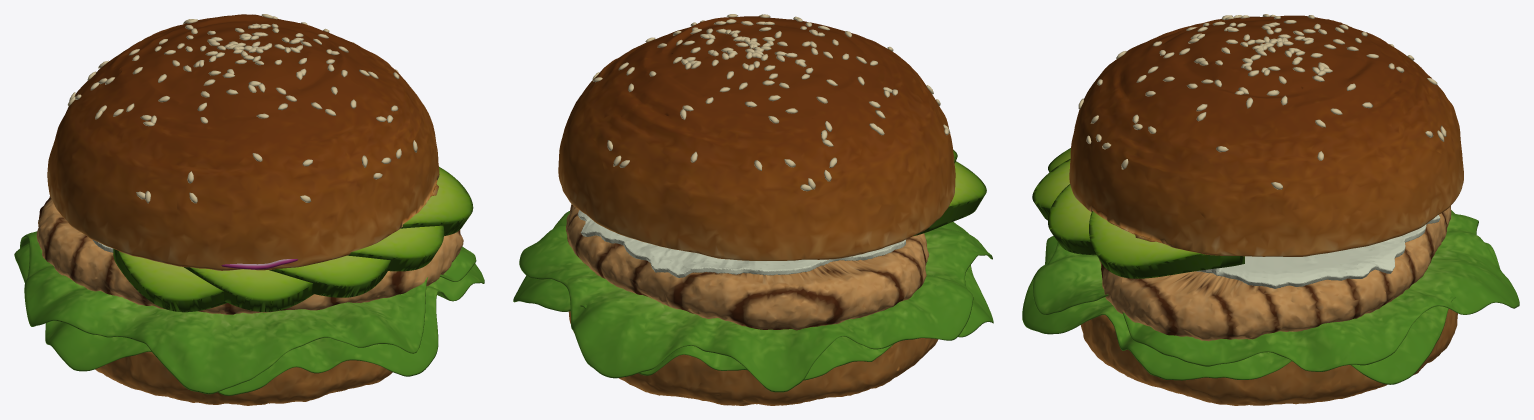
Rendered from chicken-avocat.glb.
3 renders of one model, left to right at view 1: azimuth 30°, elevation 25°; view 2: azimuth 150°, elevation 25°; view 3: azimuth 270°, elevation 25°, orthographic.
Visible parts, largest first — view 1: pain_haut, salade1, salade0, poulet_grille, pain_bas, sesame, avocat0, avocat1, avocat2, avocat3, avocat4; view 2: pain_haut, salade1, poulet_grille, pain_bas, sesame, salade0, sauce, avocat0; view 3: pain_haut, salade1, poulet_grille, salade0, pain_bas, sauce, sesame, avocat4, avocat3, avocat2.
Boxes of the visible parts, left/top/right/bottom form: pain_haut: left=47, top=14, right=439, bottom=270; salade1: left=20, top=231, right=476, bottom=394; salade0: left=14, top=243, right=484, bottom=395; poulet_grille: left=36, top=196, right=463, bottom=314; pain_bas: left=95, top=351, right=392, bottom=405; sesame: left=67, top=14, right=417, bottom=203; avocat0: left=113, top=248, right=227, bottom=312; avocat1: left=184, top=267, right=313, bottom=311; avocat2: left=269, top=255, right=390, bottom=297; avocat3: left=347, top=225, right=444, bottom=271; avocat4: left=400, top=167, right=473, bottom=235; pain_haut: left=558, top=16, right=955, bottom=260; salade1: left=519, top=211, right=992, bottom=392; poulet_grille: left=566, top=204, right=928, bottom=330; pain_bas: left=568, top=311, right=938, bottom=405; sesame: left=592, top=14, right=950, bottom=191; salade0: left=513, top=265, right=993, bottom=380; sauce: left=577, top=210, right=905, bottom=277; avocat0: left=913, top=161, right=986, bottom=236; pain_haut: left=1069, top=15, right=1463, bottom=256; salade1: left=1032, top=210, right=1519, bottom=371; poulet_grille: left=1099, top=206, right=1451, bottom=341; salade0: left=1022, top=236, right=1499, bottom=384; pain_bas: left=1081, top=309, right=1457, bottom=405; sauce: left=1196, top=215, right=1440, bottom=288; sesame: left=1078, top=14, right=1446, bottom=189; avocat4: left=1089, top=211, right=1244, bottom=278; avocat3: left=1048, top=184, right=1096, bottom=255; avocat2: left=1032, top=159, right=1070, bottom=220.
Bounding box in the file's own units: 0.1349 × 0.093 × 0.1411.
